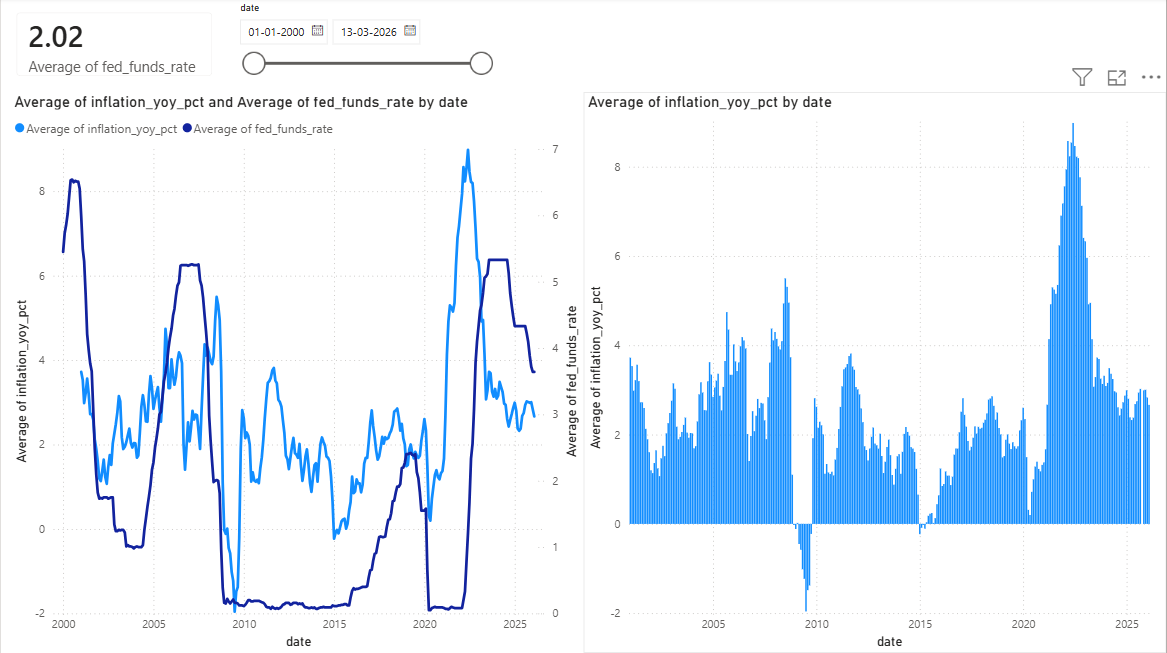

Layout of this report page (visuals, bound fields, positions):
{"tool":"powerbi","page":{"name":"Inflation & Fed Policy","canvas":[1280,720],"ordinal":2},"visuals":[{"type":"lineChart","fields":{"Category":["economic_data.date"],"Y":["Avg(economic_data.inflation_yoy_pct)"],"Y2":["Avg(economic_data.fed_funds_rate)"]},"box":[9.6,104.3,629.8,616.1],"z":0},{"type":"clusteredColumnChart","fields":{"Category":["economic_data.date"],"Y":["Avg(economic_data.inflation_yoy_pct)"]},"box":[639.5,104.3,640.8,616.1],"z":1},{"type":"cardVisual","fields":{"Data":["Avg(economic_data.fed_funds_rate)"]},"box":[0,0,249.7,104.3],"z":2},{"type":"slicer","fields":{"Values":["economic_data.date"]},"box":[249.7,0,299.1,109.8],"z":3}]}

Visuals, with their boxes in screenshot pixels (x1, y1, x2, y2), scaled from the page's 1280x720 canvas onto the 1167x653 screenshot:
lineChart - economic_data.date x Avg(economic_data.inflation_yoy_pct): BBox(9, 95, 583, 652)
clusteredColumnChart - economic_data.date x Avg(economic_data.inflation_yoy_pct): BBox(583, 95, 1166, 652)
cardVisual - Avg(economic_data.fed_funds_rate): BBox(0, 0, 228, 95)
slicer - economic_data.date: BBox(228, 0, 500, 100)
